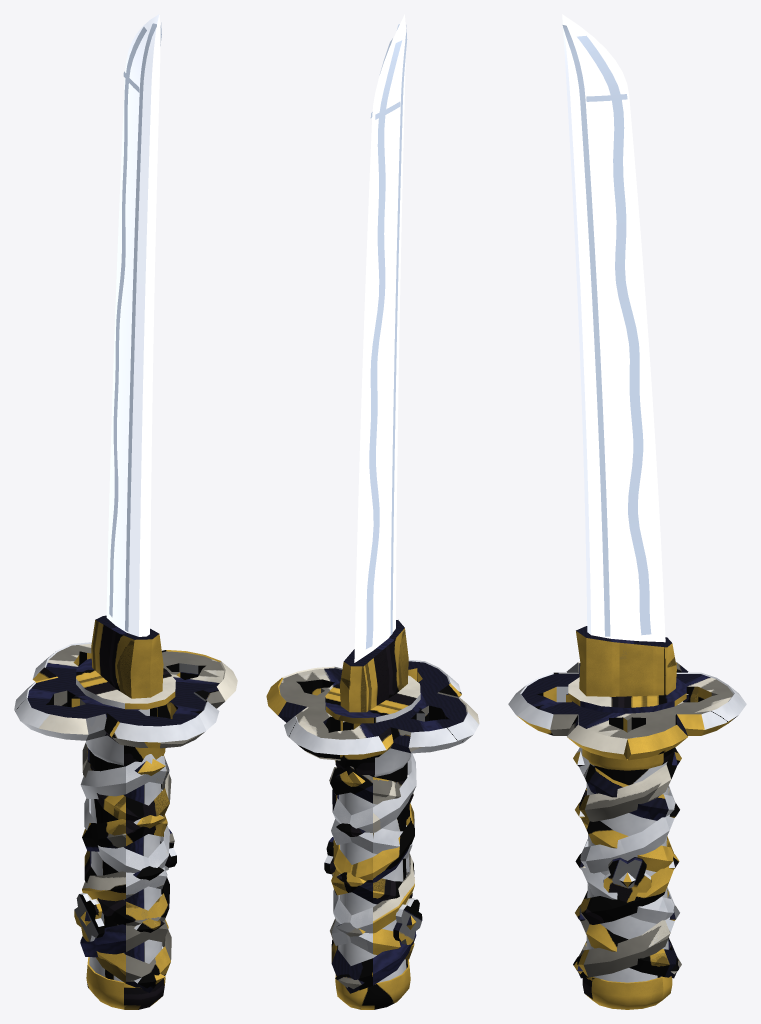
Rendered from kodachi.fbx.
3 views of the same model, side by side, from view 1: azimuth 30°, elevation 25°; view 2: azimuth 150°, elevation 25°; view 3: azimuth 270°, elevation 25° (orthographic). The views are drawn at different scales.
Visible parts, largest first — view 1: kodachi, kodachi_blade, kodachi_glow; view 2: kodachi, kodachi_blade, kodachi_glow; view 3: kodachi, kodachi_blade, kodachi_glow.
Part boxes in pixels (left/top/right/bottom): kodachi: left=14, top=615, right=237, bottom=1009; kodachi_blade: left=106, top=14, right=160, bottom=636; kodachi_glow: left=109, top=22, right=161, bottom=631; kodachi: left=266, top=620, right=479, bottom=1009; kodachi_blade: left=354, top=14, right=405, bottom=662; kodachi_glow: left=366, top=24, right=407, bottom=648; kodachi: left=508, top=626, right=746, bottom=1009; kodachi_blade: left=562, top=14, right=665, bottom=642; kodachi_glow: left=562, top=25, right=651, bottom=636.
Bounding box in the file's own units: 83.8 × 384 × 84.
Materials: 3 (1 with a texture image).
